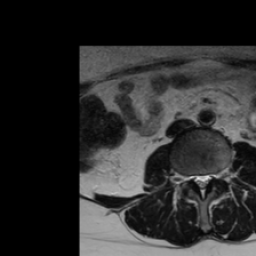CCS_normal: (198, 167, 205, 203)
LFS_stenosis: (213, 167, 220, 186)
LLS_stenosis: (205, 167, 213, 189)
RFS_stenosis: (184, 167, 191, 189)
RLS_stenosis: (191, 168, 198, 188)
